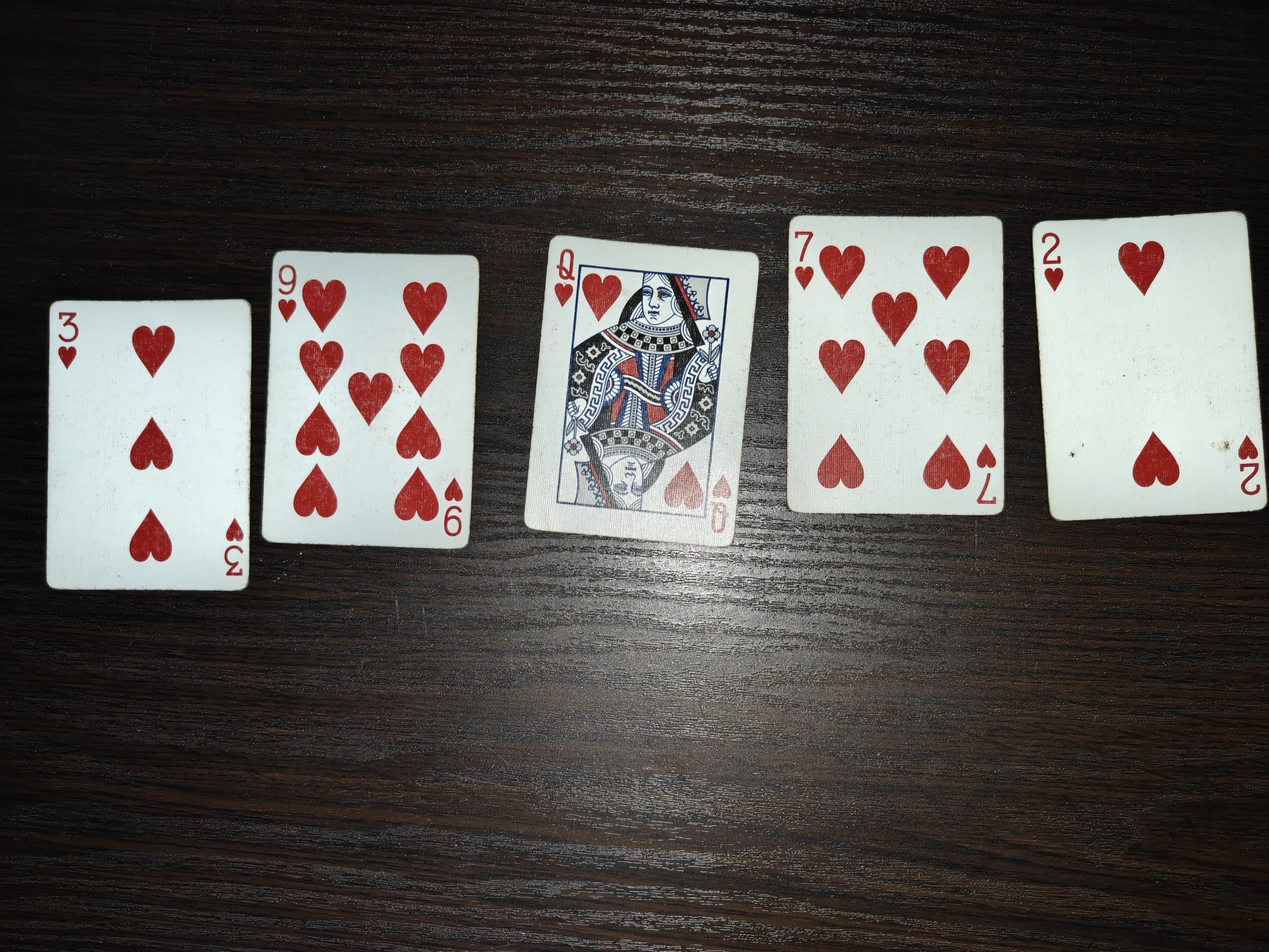2H: (1031, 208, 1269, 520)
3H: (47, 294, 252, 595)
7H: (784, 214, 1008, 519)
9H: (259, 246, 482, 550)
QH: (523, 230, 762, 548)
